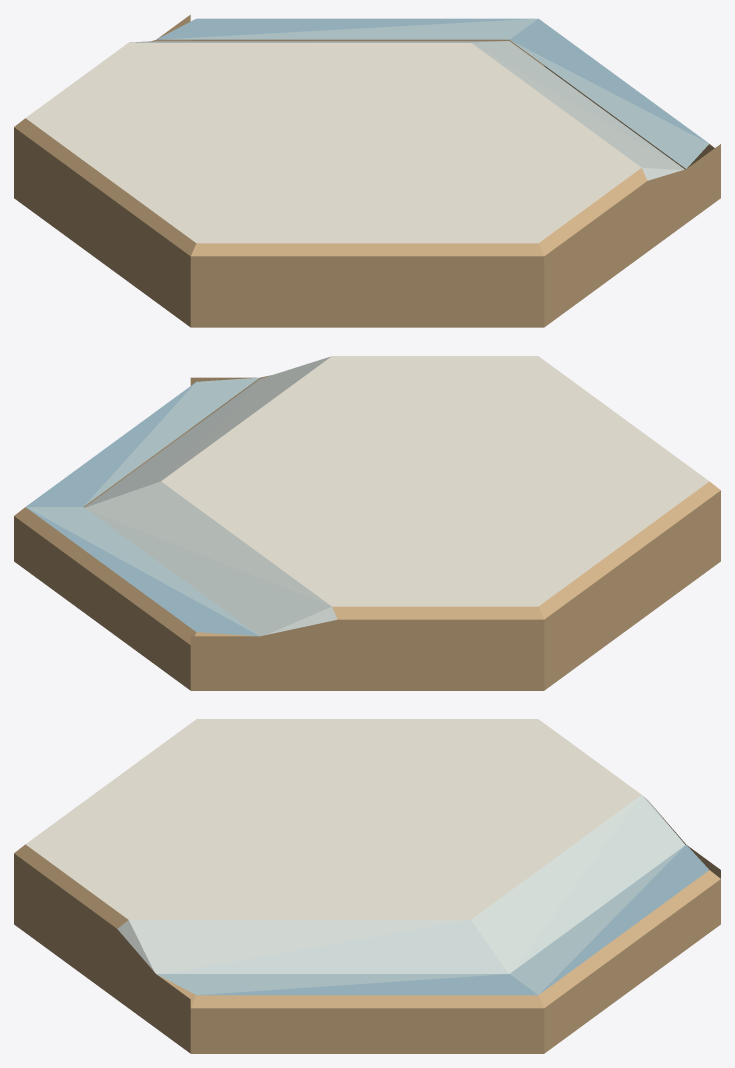
Rendered from coast_two_sides_snow_1.fbx.
3 renders of one model, top to bottom at view 1: azimuth 30°, elevation 25°; view 2: azimuth 150°, elevation 25°; view 3: azimuth 270°, elevation 25°, orthographic.
Visible parts, largest first — view 1: coast_two_sides_snow_1; view 2: coast_two_sides_snow_1; view 3: coast_two_sides_snow_1.
Boxes of the visible parts, bbox=[...] form: coast_two_sides_snow_1: bbox=[14, 14, 720, 327]; coast_two_sides_snow_1: bbox=[14, 356, 720, 690]; coast_two_sides_snow_1: bbox=[14, 719, 720, 1053].
Bounding box in the file's own units: 1.73 × 0.25 × 2.
